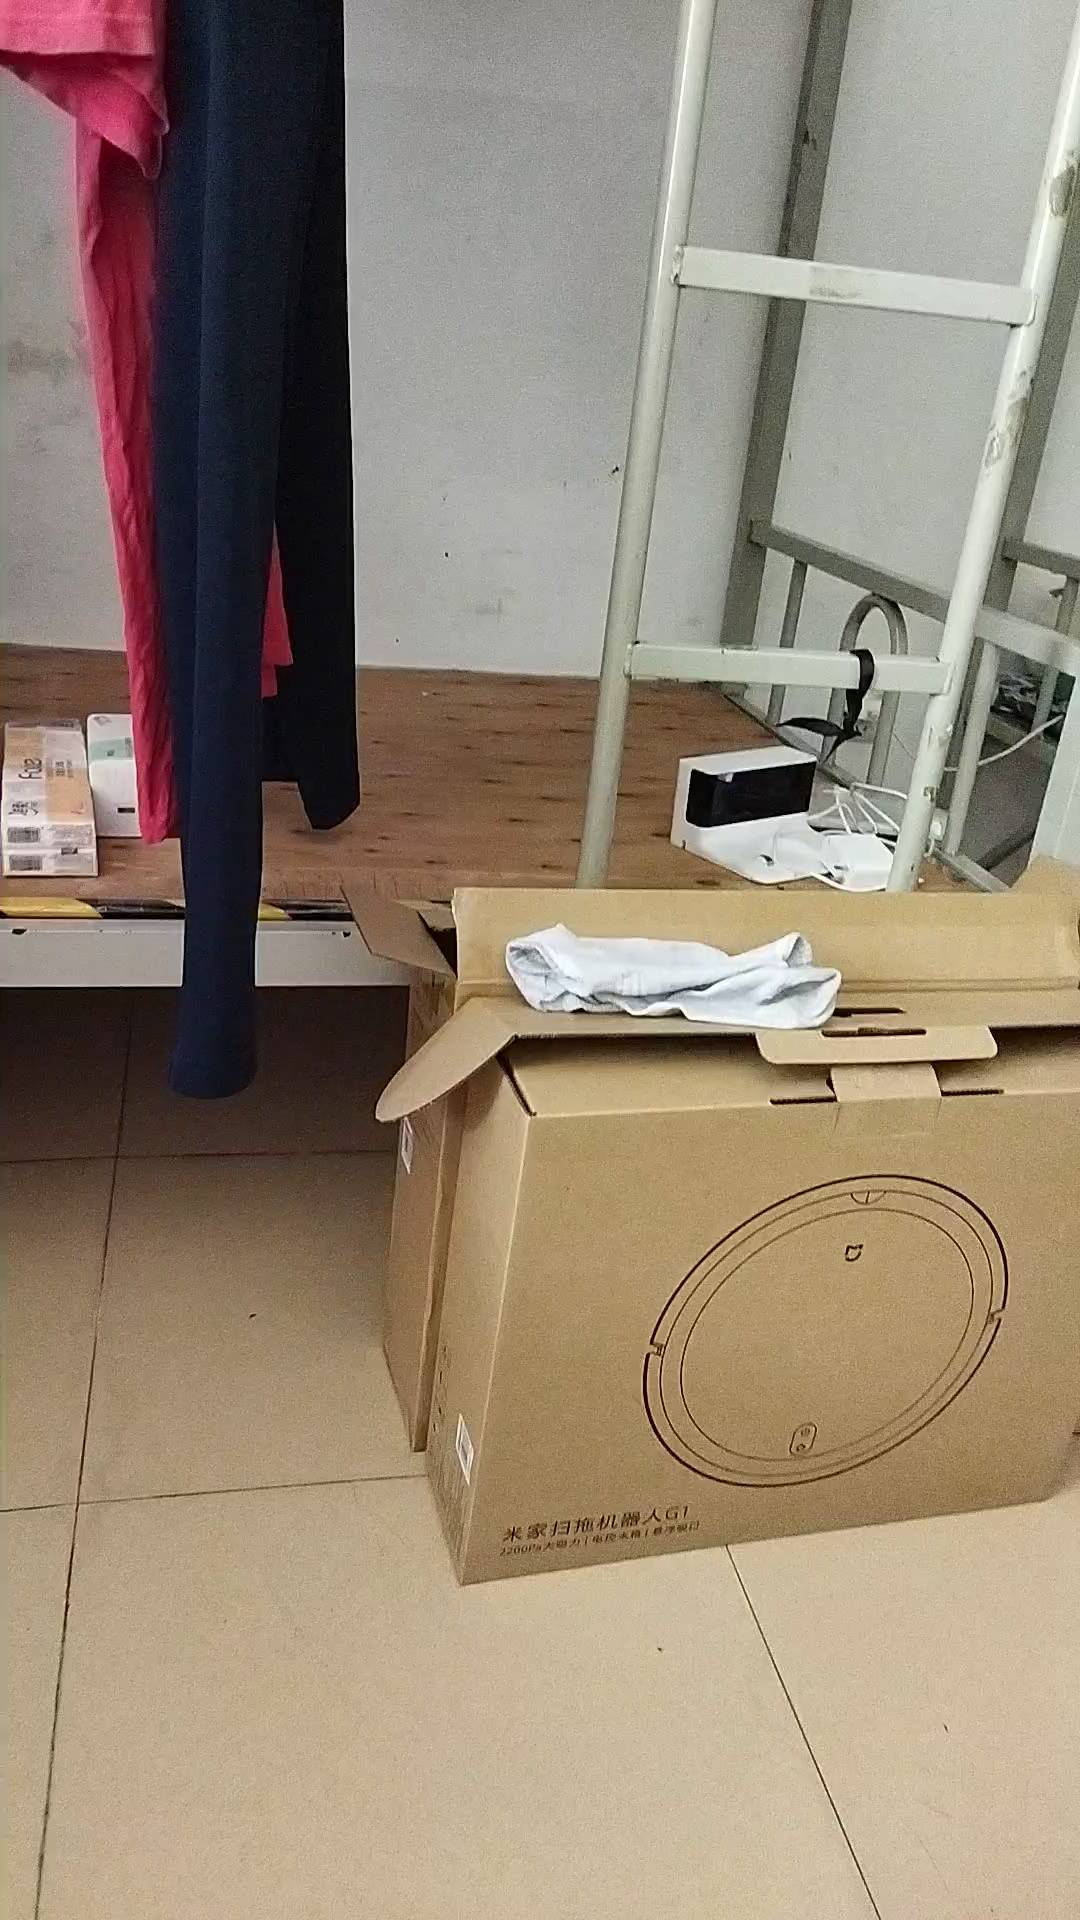recharge seat: (669, 742, 852, 884)
